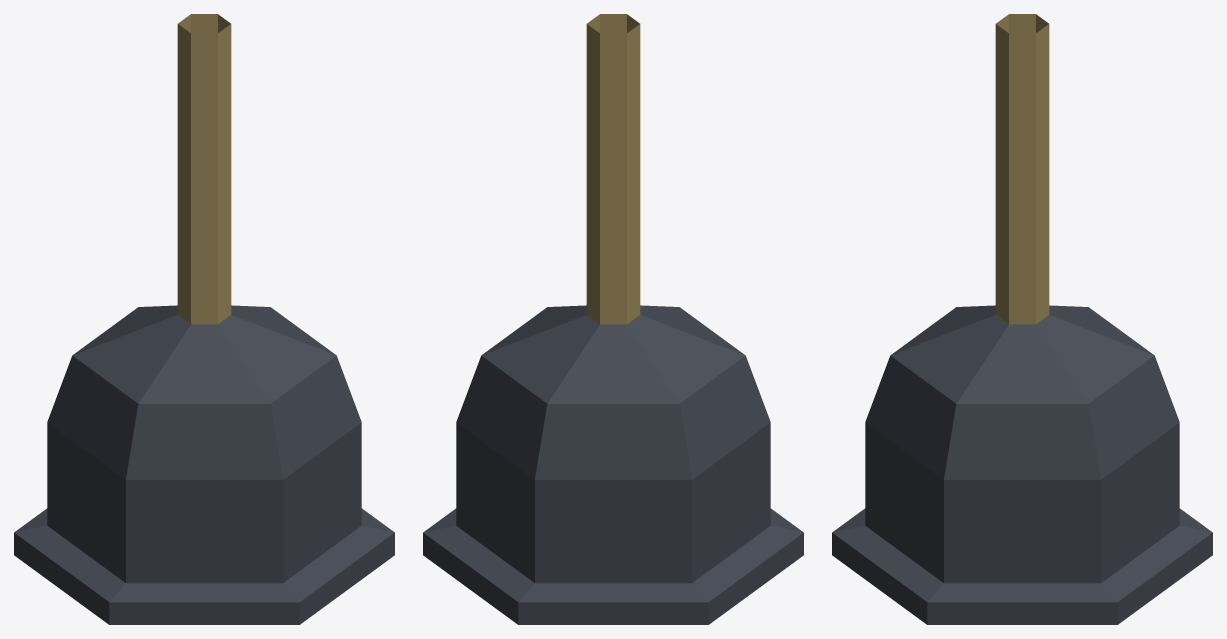
The model's file is Bell_1 Asia.fbx.
3 views of the same model, side by side, from view 1: azimuth 30°, elevation 25°; view 2: azimuth 150°, elevation 25°; view 3: azimuth 270°, elevation 25° (orthographic).
Parts seen in each view (by area): view 1: Bell_1; view 2: Bell_1; view 3: Bell_1.
Part boxes in pixels (left/top/right/bottom): Bell_1: left=14, top=14, right=394, bottom=624; Bell_1: left=423, top=14, right=803, bottom=624; Bell_1: left=832, top=14, right=1212, bottom=624.
Size of the model in its own units: 0.1156 by 0.2234 by 0.1335.
